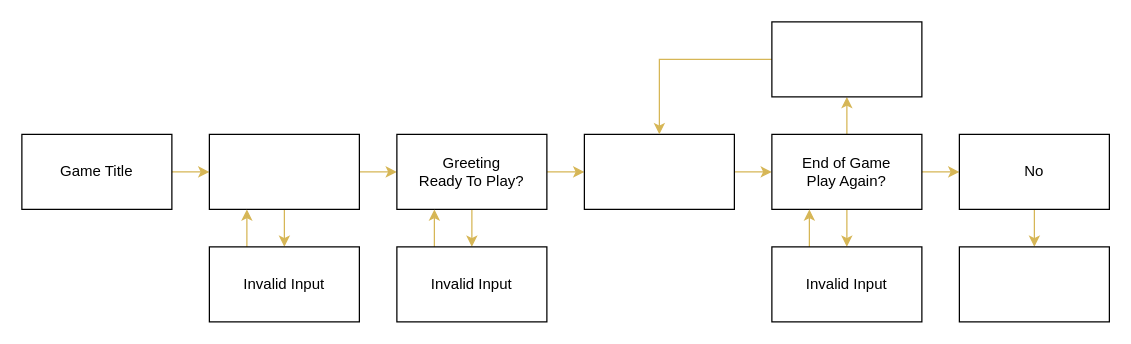
This 1131x344 diagram has some shape labels left out. The shapes that lost their labels are listed below. From the top down, each one's box as (x1, y1, x2, y2) in pixels, then its label:
(771, 21, 922, 97): Yes
(208, 133, 359, 209): Enter Name
(583, 133, 734, 209): Questions Start
(958, 246, 1109, 322): Show High Scores
